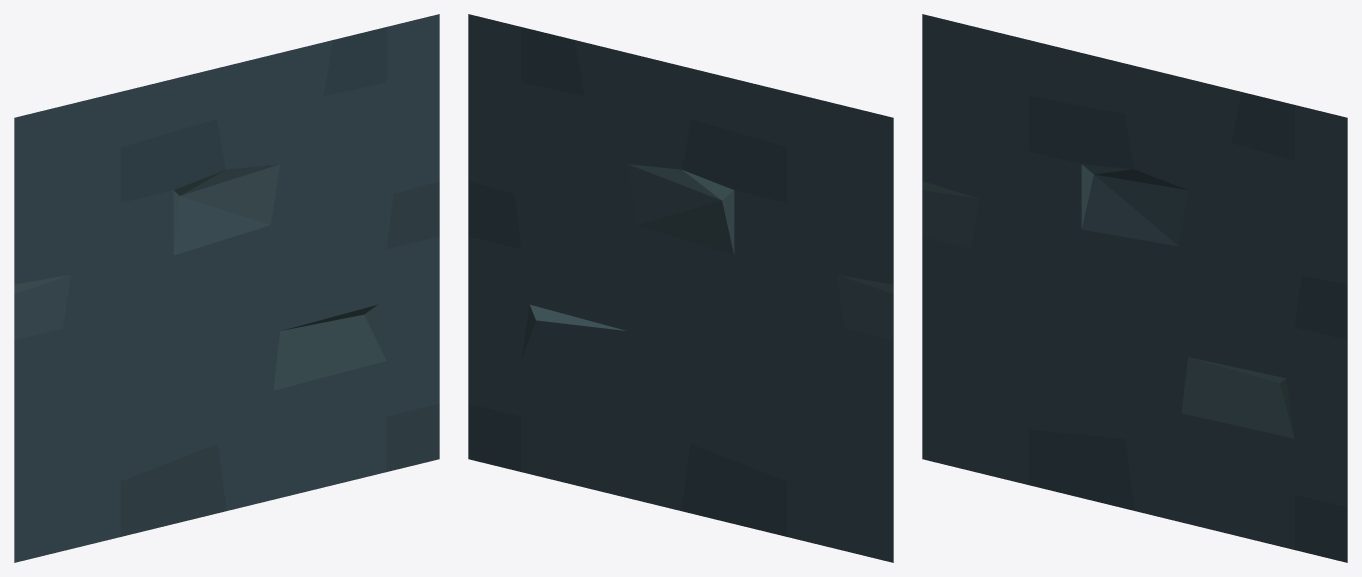
Rendered from wall_4m_back.fbx.
The picture shows the model from 3 angles, left to right: view 1: azimuth 30°, elevation 25°; view 2: azimuth 150°, elevation 25°; view 3: azimuth 330°, elevation 25°; orthographic projection.
Visible parts, largest first — view 1: wall_4m_back; view 2: wall_4m_back; view 3: wall_4m_back.
Part boxes in pixels (box(x1,y1,x2,y2)): wall_4m_back: box(14, 14, 439, 562); wall_4m_back: box(468, 14, 893, 562); wall_4m_back: box(922, 14, 1347, 562).
Bounding box in the file's own units: 400 × 400 × 6.42.
